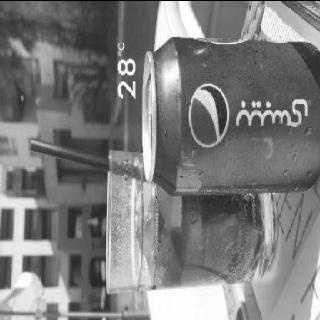alumunium_can: (141, 34, 320, 196)
